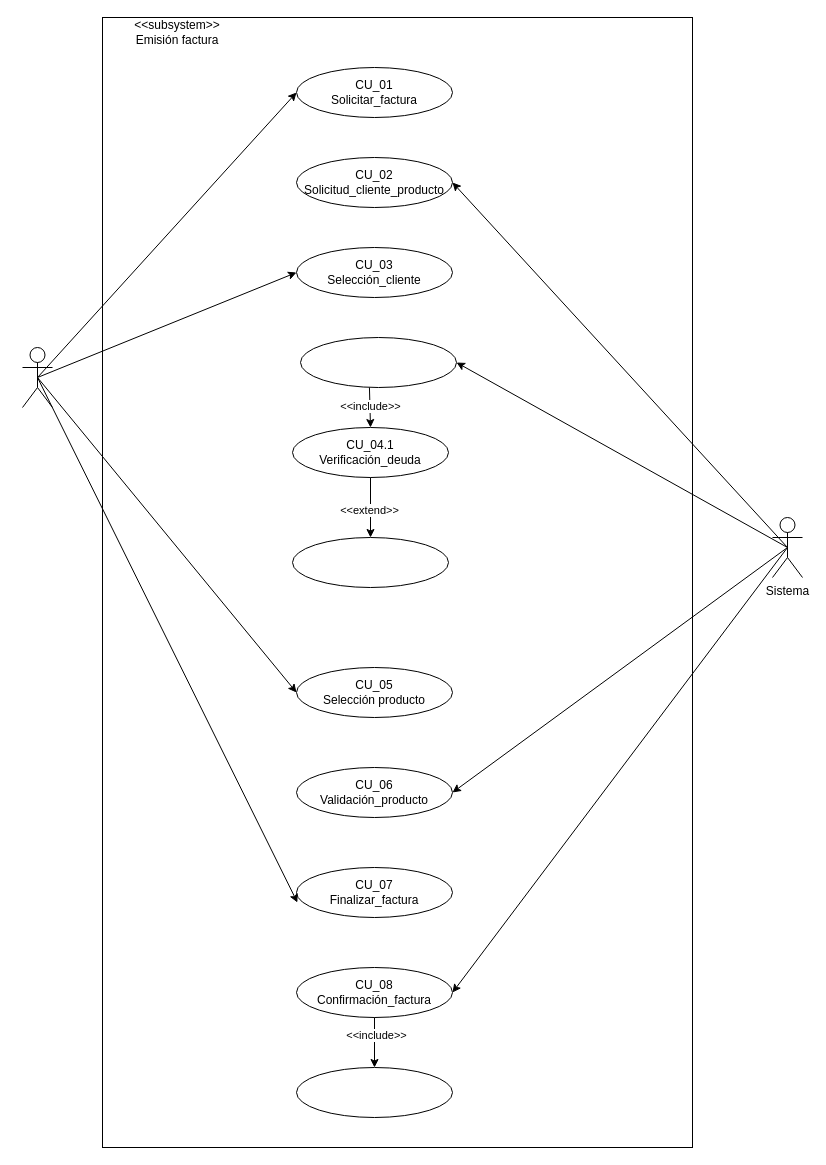
Image size: 826x1165. Some labels were removed from this diagram. The centre of each missing label's shape, as x and y in pixels:
"CU_04 Validación cliente" belongs at point 378,362.
"CU_04.2 Finalización" belongs at point 370,562.
"CU_08.1 Número_comprobante" belongs at point 374,1092.
"Usuario" belongs at point 37,377.
